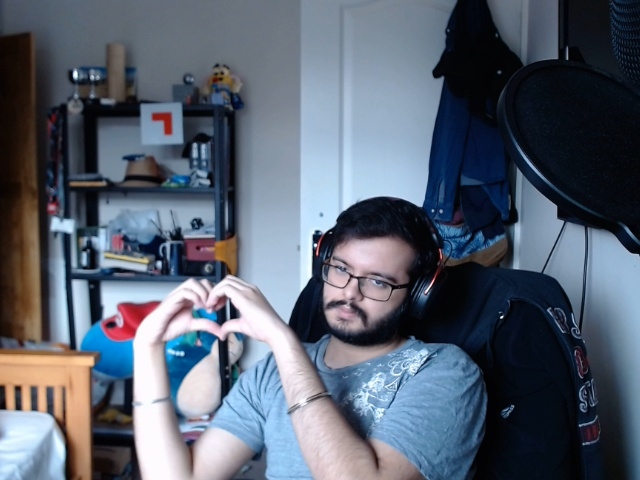Heart: (126, 275, 286, 340)
